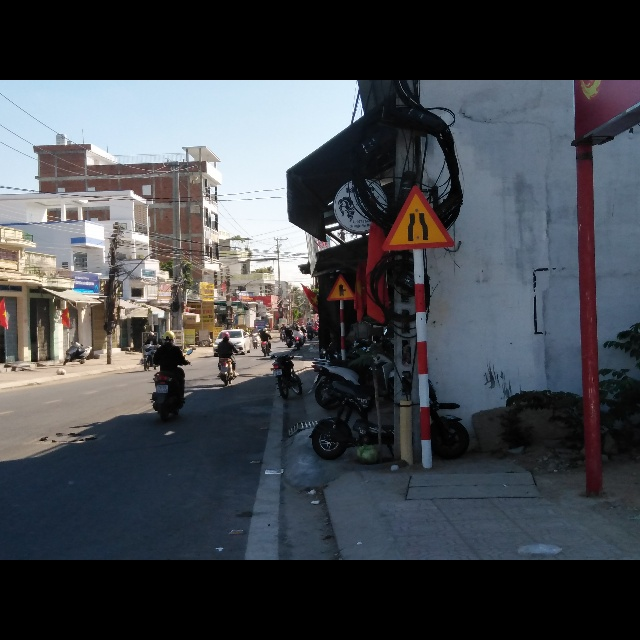Giao nhau với đường không ưu tiên: (327, 273, 359, 301)
Đường bị hẹp cả hai bên: (381, 184, 457, 251)
